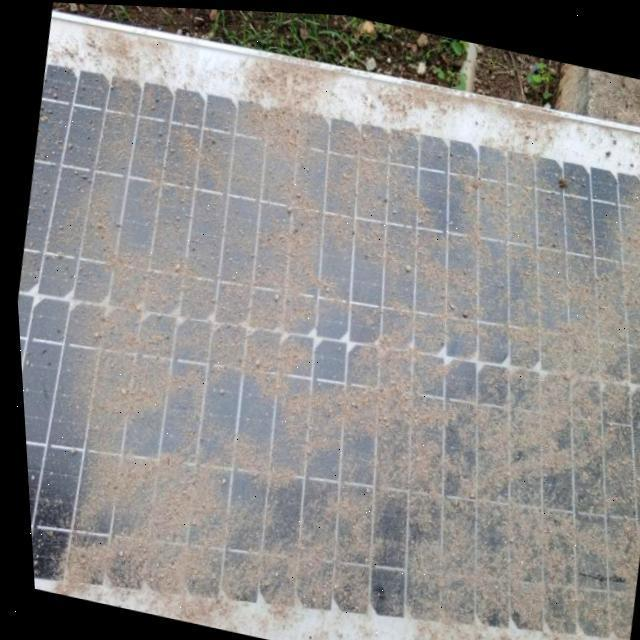Surface Contaminant: (19, 38, 640, 640)
